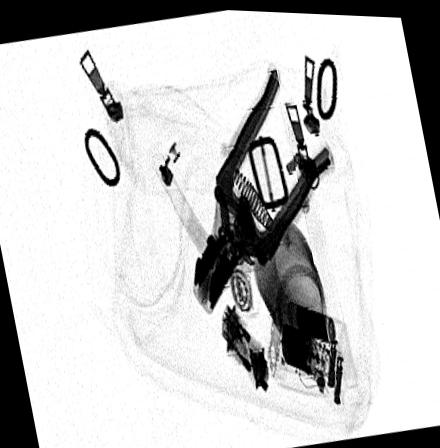Pliers: (192, 58, 335, 310)
